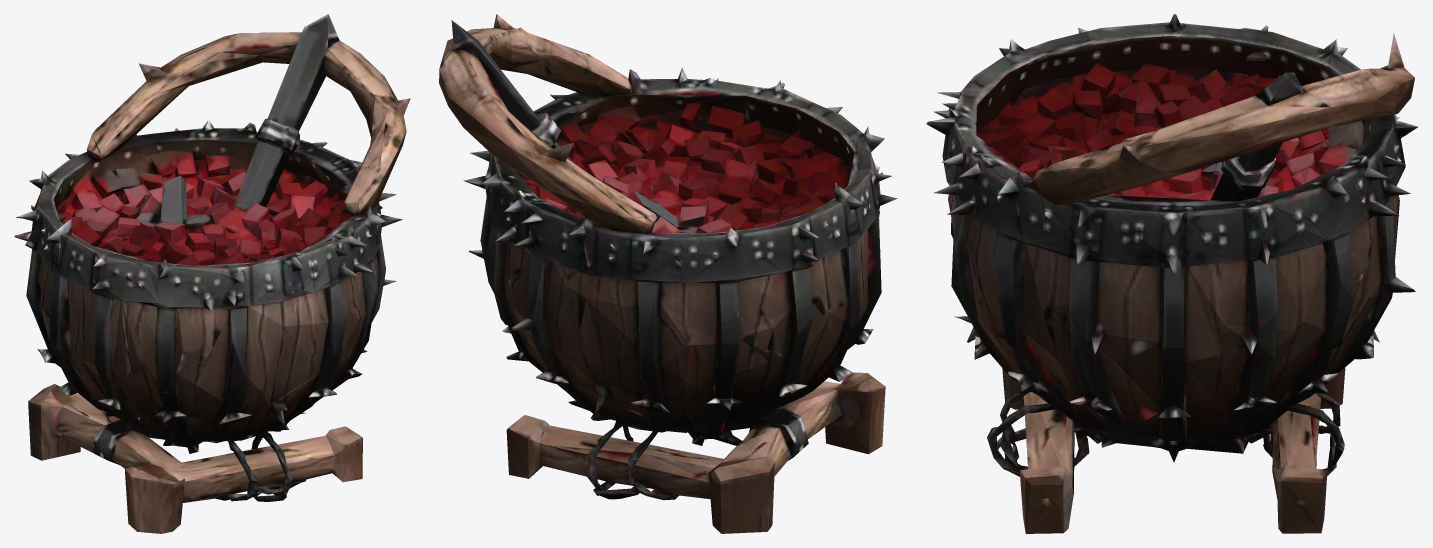
The model's file is orc_watch_fire_01.glb.
The picture shows the model from 3 angles, left to right: view 1: azimuth 30°, elevation 25°; view 2: azimuth 150°, elevation 25°; view 3: azimuth 270°, elevation 25°; orthographic projection. The views are drawn at different scales.
Parts seen in each view (by area): view 1: geometry_0; view 2: geometry_0; view 3: geometry_0.
Part boxes in pixels (left/top/right/bottom): geometry_0: left=14, top=14, right=410, bottom=533; geometry_0: left=439, top=14, right=897, bottom=533; geometry_0: left=926, top=14, right=1418, bottom=533.
Bounding box in the file's own units: 0.9528 × 0.9975 × 0.8859.
Materials: 1 (1 with a texture image).
